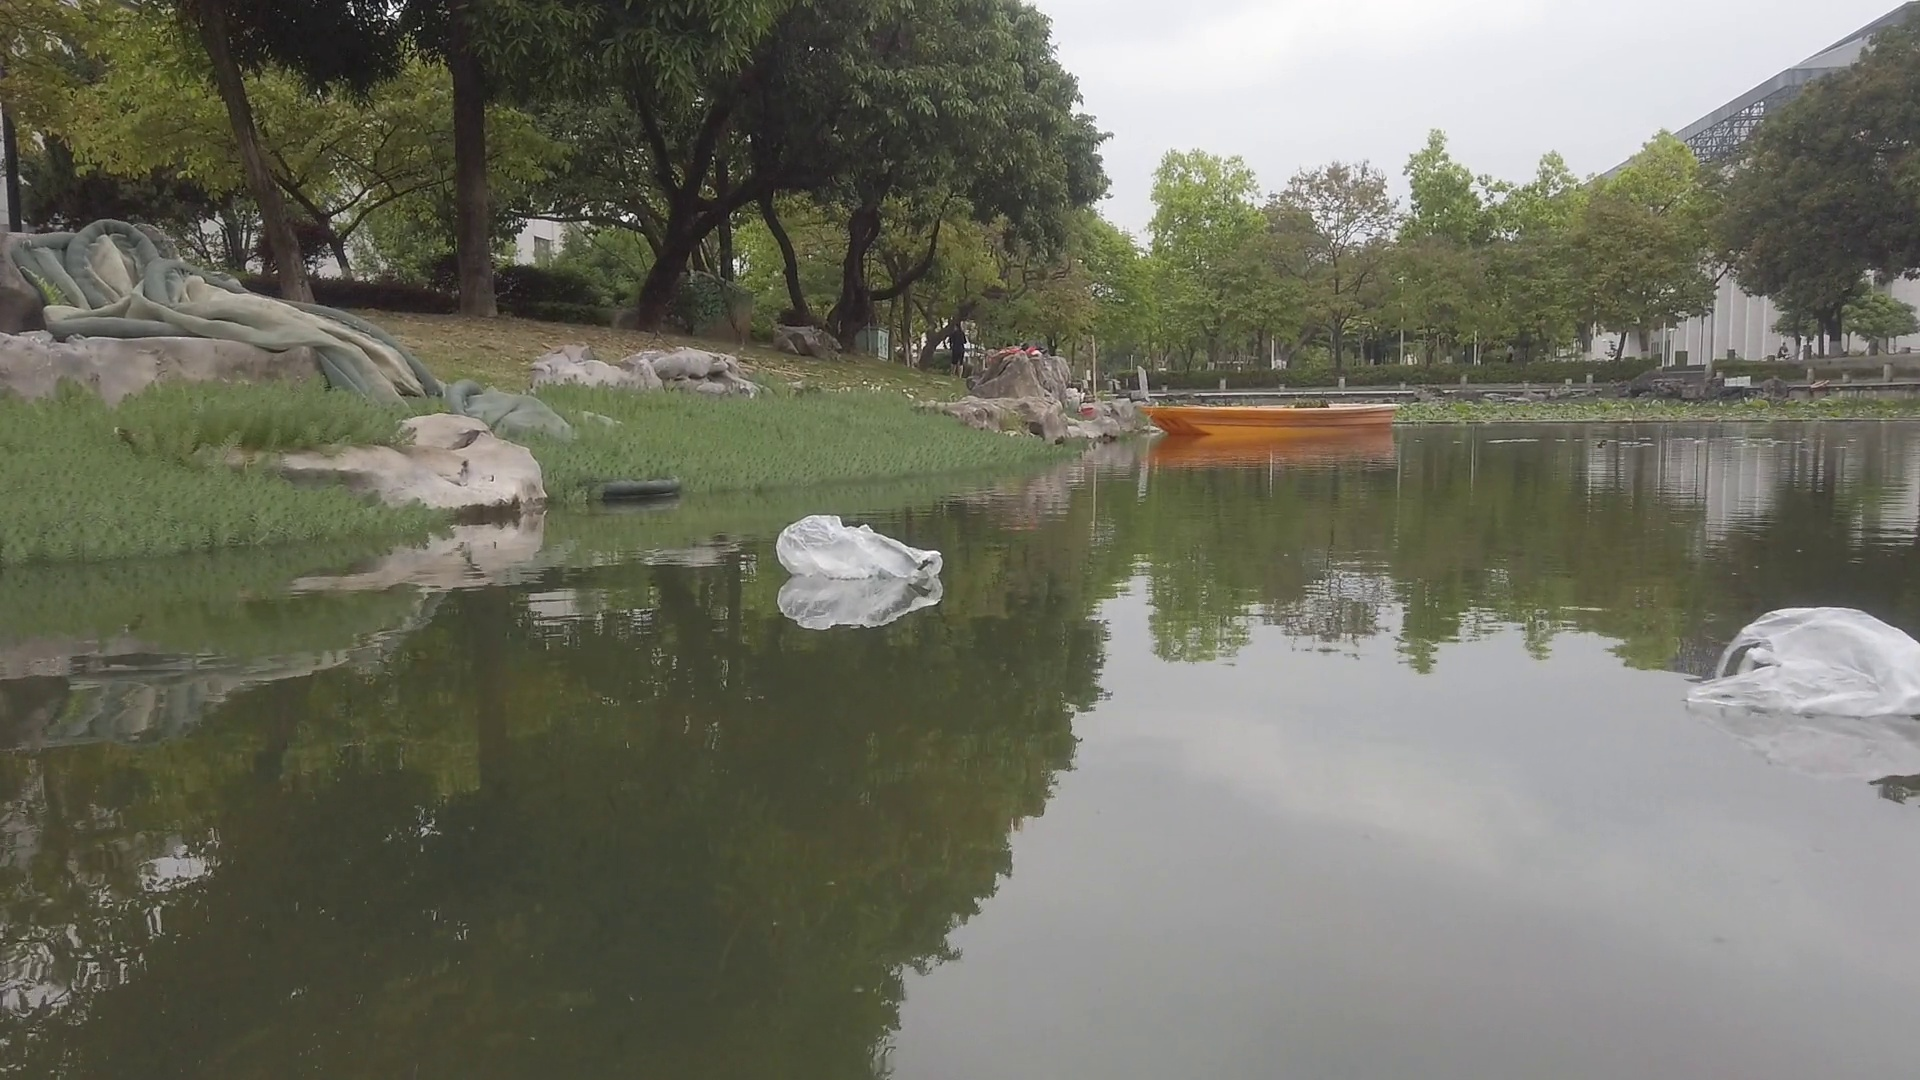plastic: (1704, 597, 1917, 721), (771, 518, 942, 589)
